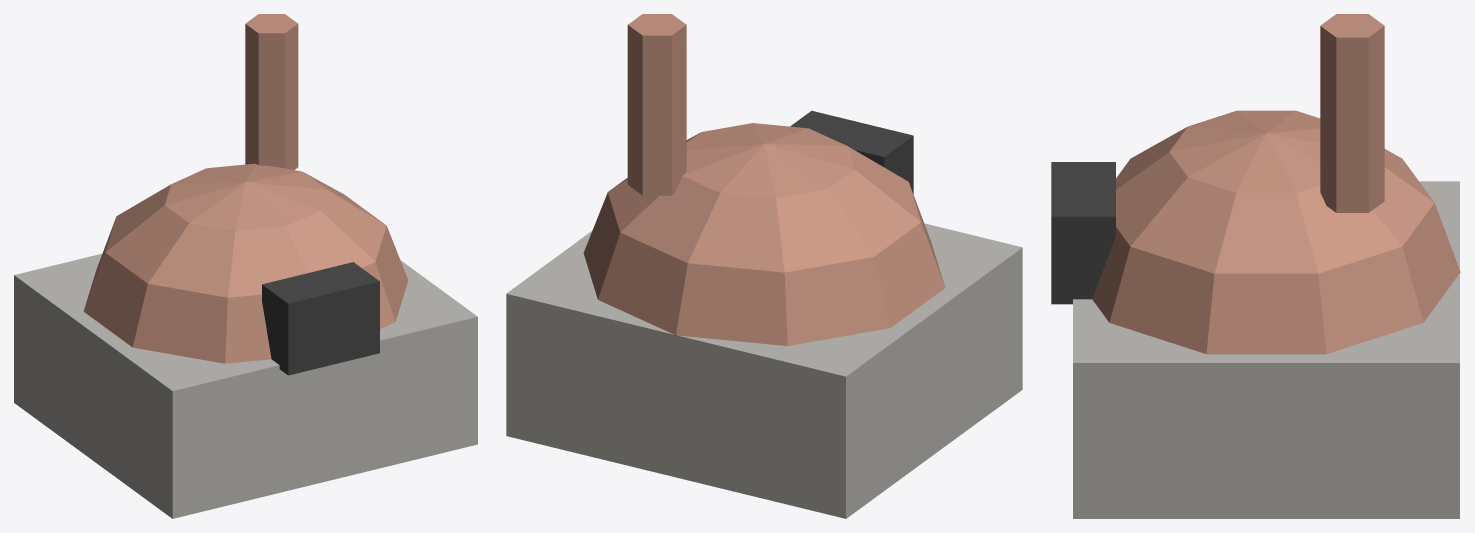
Rendered from bread_oven.glb.
The picture shows the model from 3 angles, left to right: view 1: azimuth 30°, elevation 25°; view 2: azimuth 150°, elevation 25°; view 3: azimuth 270°, elevation 25°; orthographic projection. The views are drawn at different scales.
Parts seen in each view (by area): view 1: bread_oven; view 2: bread_oven; view 3: bread_oven.
Boxes of the visible parts, x1=… form: bread_oven: x1=14, y1=14, x2=477, y2=518; bread_oven: x1=506, y1=14, x2=1022, y2=518; bread_oven: x1=1051, y1=14, x2=1460, y2=518.
Size of the model in its own units: 2 by 2.25 by 1.9.
